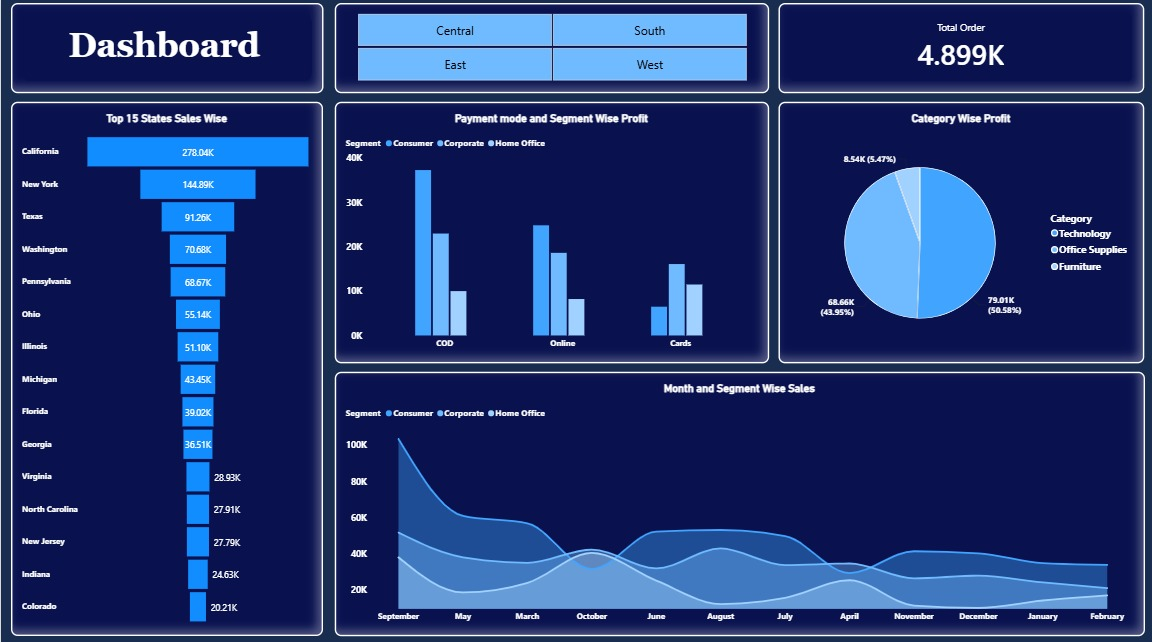

Layout of this report page (visuals, bound fields, positions):
{"tool":"powerbi","page":{"name":"Dashboard","canvas":[1920,1080],"ordinal":9},"visuals":[{"type":"clusteredColumnChart","title":"Payment mode and Segment Wise Profit","fields":{"Category":["Sheet1.Payment Mode"],"Series":["Sheet1.Segment"],"Y":["Sum(Sheet1.Profit)"]},"box":[555.6,171.9,723.9,436.1],"z":0},{"type":"areaChart","title":"Month and Segment Wise Sales","fields":{"Category":["Sheet1.Month"],"Series":["Sheet1.Segment"],"Y":["Sum(Sheet1.Sales)"]},"box":[555.6,622.2,1350,440.7],"z":1000},{"type":"pieChart","title":"Category Wise Profit","fields":{"Category":["Sheet1.Category"],"Y":["Sum(Sheet1.Profit)"]},"box":[1295.7,171.9,609.9,436.1],"z":2000},{"type":"funnel","title":"Top 15 States Sales Wise","fields":{"Category":["Sheet1.State"],"Y":["Sum(Sheet1.Sales)"]},"box":[16.7,172.2,520.4,890.7],"z":3000},{"type":"cardVisual","fields":{"Data":["CountNonNull(Sheet1.Order ID)"]},"box":[1295.7,9,609.9,150.2],"z":4000},{"type":"slicer","fields":{"Values":["Sheet1.Region"]},"box":[555.6,9,723.9,150.2],"z":5000},{"type":"shape","box":[16.3,9,521.2,150.2],"z":6000},{"type":"textbox","box":[70.6,48.9,401.7,70.6],"z":7000}]}

Visuals, with their boxes in screenshot pixels (x1, y1, x2, y2), scaled from the page's 1920x1080 canvas onto the 1152x642 screenshot:
"Payment mode and Segment Wise Profit" clusteredColumnChart: detection(333, 102, 768, 361)
"Month and Segment Wise Sales" areaChart: detection(333, 370, 1143, 632)
"Category Wise Profit" pieChart: detection(777, 102, 1143, 361)
"Top 15 States Sales Wise" funnel: detection(10, 102, 322, 632)
cardVisual - CountNonNull(Sheet1.Order ID): detection(777, 5, 1143, 95)
slicer - Sheet1.Region: detection(333, 5, 768, 95)
shape: detection(10, 5, 322, 95)
textbox: detection(42, 29, 283, 71)
